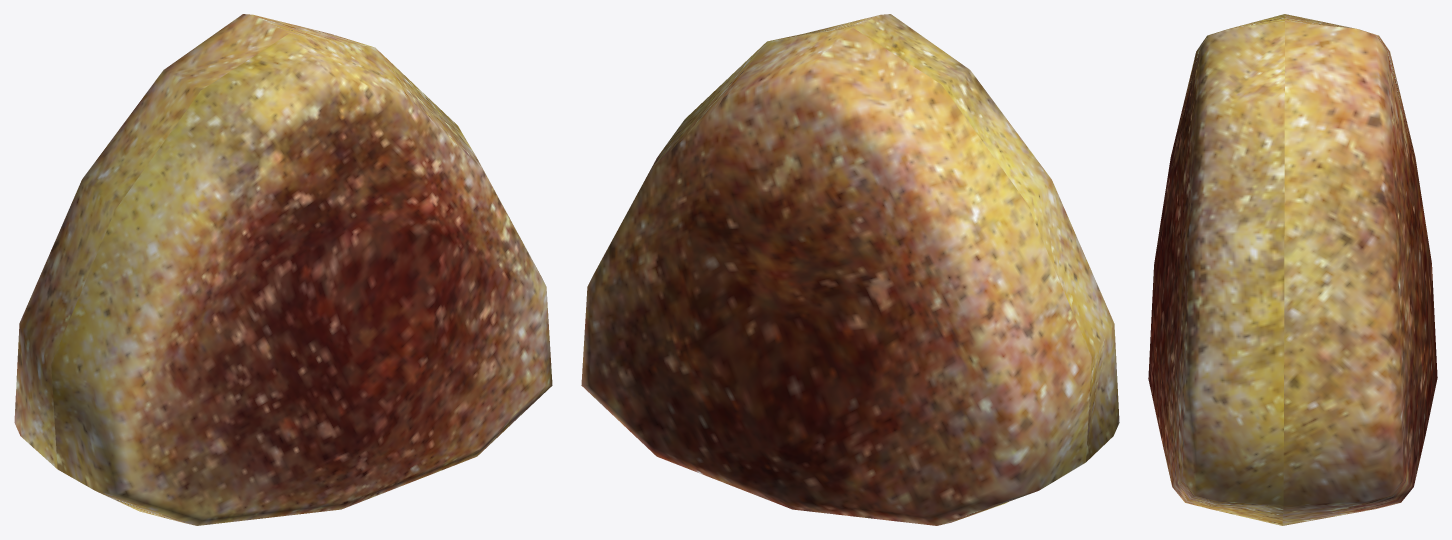
File: grb.fbx
3 renders of one model, left to right at view 1: azimuth 30°, elevation 25°; view 2: azimuth 150°, elevation 25°; view 3: azimuth 270°, elevation 25°, orthographic.
Parts seen in each view (by area): view 1: pCylinder3; view 2: pCylinder3; view 3: pCylinder3.
Part boxes in pixels (bbox=[...]): pCylinder3: bbox=[14, 14, 552, 525]; pCylinder3: bbox=[581, 14, 1119, 525]; pCylinder3: bbox=[1148, 14, 1437, 525].
Bounding box in the file's own units: 2.85 × 2.62 × 1.53.
